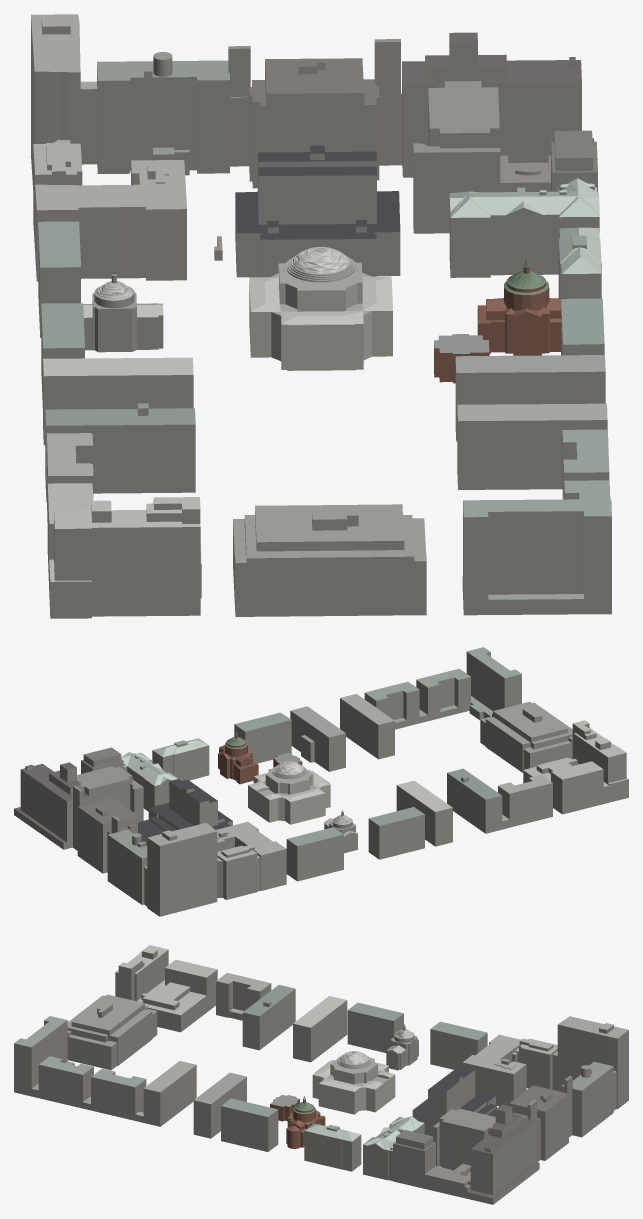
Rendered from columbia-avery.context.glb.
3 views of the same model, one above another, from view 1: azimuth 30°, elevation 25°; view 2: azimuth 150°, elevation 25°; view 3: azimuth 270°, elevation 25° (orthographic). The views are drawn at different scales.
Parts seen in each view (by area): view 1: Columbia University, Avery Hall; view 2: Columbia University, Avery Hall; view 3: Columbia University, Avery Hall.
Boxes of the visible parts, left/top/right/bottom form: Columbia University, Avery Hall: left=31, top=14, right=611, bottom=618; Columbia University, Avery Hall: left=14, top=647, right=628, bottom=916; Columbia University, Avery Hall: left=14, top=945, right=628, bottom=1204.
Bounding box in the file's own units: 428 × 68.87 × 514.
